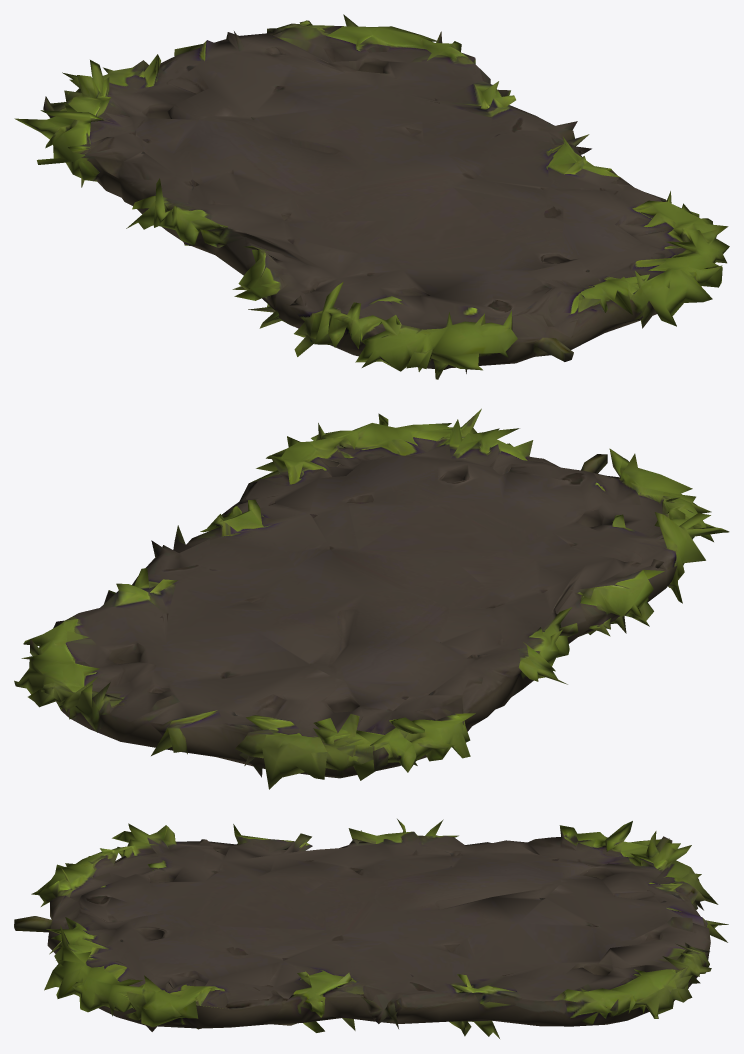
The model's file is gnd_urban_oil_moss.fbx.
The picture shows the model from 3 angles, top to bottom: view 1: azimuth 30°, elevation 25°; view 2: azimuth 150°, elevation 25°; view 3: azimuth 270°, elevation 25°; orthographic projection. The views are drawn at different scales.
Parts seen in each view (by area): view 1: gnd_urban_oil_moss_LOD0; view 2: gnd_urban_oil_moss_LOD0; view 3: gnd_urban_oil_moss_LOD0.
Boxes of the visible parts, <box> form: gnd_urban_oil_moss_LOD0: <box>14,14,729,379</box>; gnd_urban_oil_moss_LOD0: <box>14,408,729,789</box>; gnd_urban_oil_moss_LOD0: <box>14,819,728,1038</box>.
Size of what is drawn, in the model's own units: 0.6102 by 0.0992 by 0.9764.
